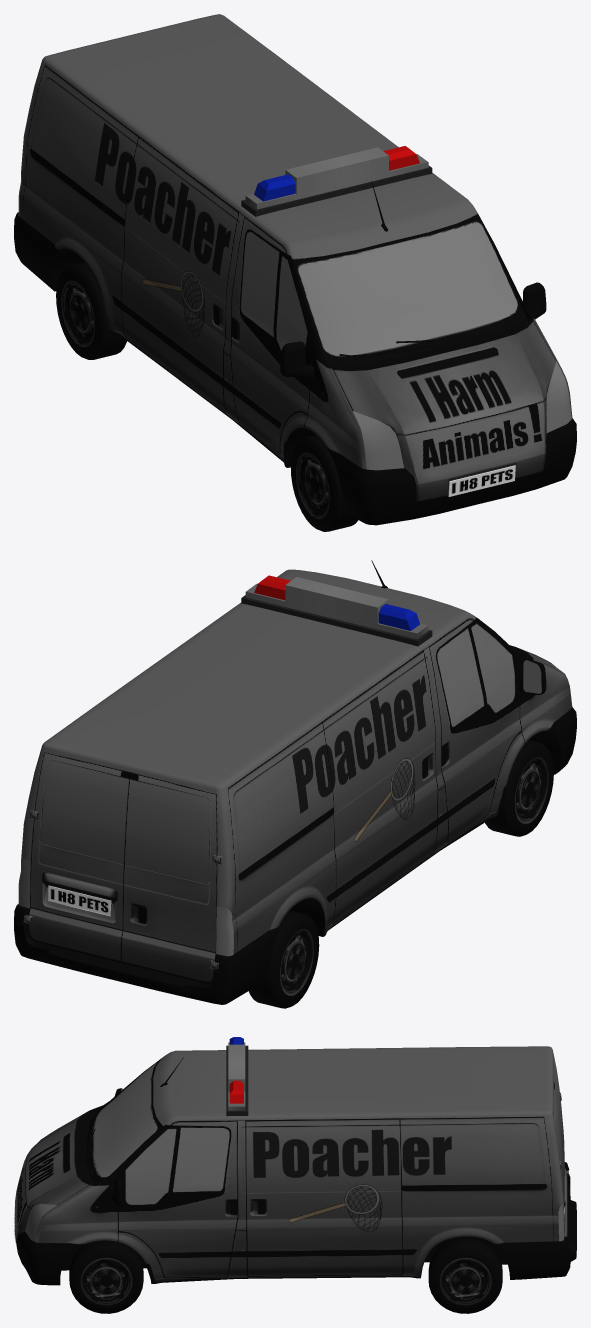
File: PoacherVan.fbx
3 renders of one model, top to bottom at view 1: azimuth 30°, elevation 25°; view 2: azimuth 150°, elevation 25°; view 3: azimuth 270°, elevation 25°, orthographic. The views are drawn at different scales.
Parts seen in each view (by area): view 1: van03_2; view 2: van03_2; view 3: van03_2.
Boxes of the visible parts, x1,y1,x2,y2 form: van03_2: (14, 14, 576, 531); van03_2: (14, 560, 576, 1008); van03_2: (14, 1037, 576, 1313).
Size of the model in its own units: 13.66 by 14.07 by 32.99.
Materials: 1 (1 with a texture image).
